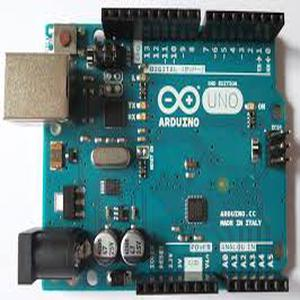duino: (30, 4, 300, 297)
